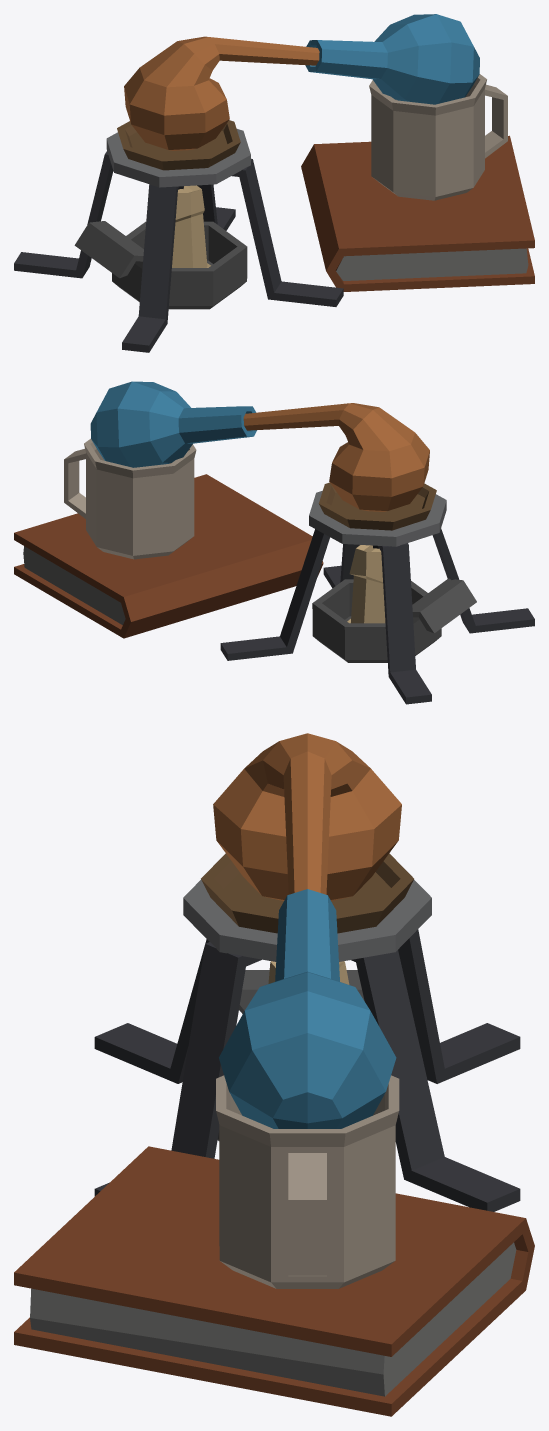
The model's file is SM_Retort.fbx.
The picture shows the model from 3 angles, top to bottom: view 1: azimuth 30°, elevation 25°; view 2: azimuth 150°, elevation 25°; view 3: azimuth 270°, elevation 25°; orthographic projection. The views are drawn at different scales.
Parts seen in each view (by area): view 1: SM_Retort; view 2: SM_Retort; view 3: SM_Retort.
Boxes of the visible parts, x1,y1,x2,y2 form: SM_Retort: (14, 14, 534, 352); SM_Retort: (14, 381, 534, 704); SM_Retort: (14, 733, 534, 1416).
Bounding box in the file's own units: 62.44 × 31.06 × 36.25.
